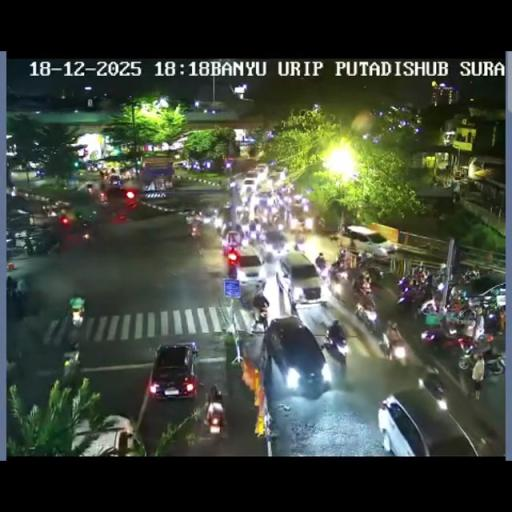Car: (377, 386, 478, 454), (261, 316, 327, 393), (147, 342, 198, 400), (75, 413, 138, 456), (278, 250, 322, 306), (341, 225, 398, 261), (233, 244, 263, 286), (250, 191, 278, 225), (260, 226, 289, 257), (103, 184, 132, 204), (222, 230, 242, 253), (268, 165, 286, 181), (241, 178, 258, 194), (253, 163, 269, 178), (108, 174, 122, 188), (172, 160, 190, 169)
Motorcycle: (422, 321, 478, 361), (460, 344, 505, 378), (396, 277, 432, 310), (320, 326, 347, 366), (448, 302, 484, 328), (354, 303, 380, 337), (420, 372, 446, 406), (205, 386, 224, 432), (384, 322, 406, 360), (60, 350, 78, 384), (483, 306, 504, 334), (251, 294, 267, 329), (361, 262, 383, 284), (66, 322, 82, 350), (328, 274, 346, 298), (330, 255, 348, 276), (459, 268, 480, 285), (70, 305, 84, 327), (5, 234, 17, 258), (314, 258, 329, 276), (294, 232, 308, 251), (80, 226, 93, 246), (357, 250, 371, 268), (6, 276, 17, 298), (15, 277, 27, 297), (247, 222, 260, 240), (189, 220, 201, 238), (23, 239, 36, 255), (356, 274, 366, 292), (317, 216, 327, 233), (451, 188, 460, 203), (436, 279, 446, 291), (215, 222, 222, 236)
